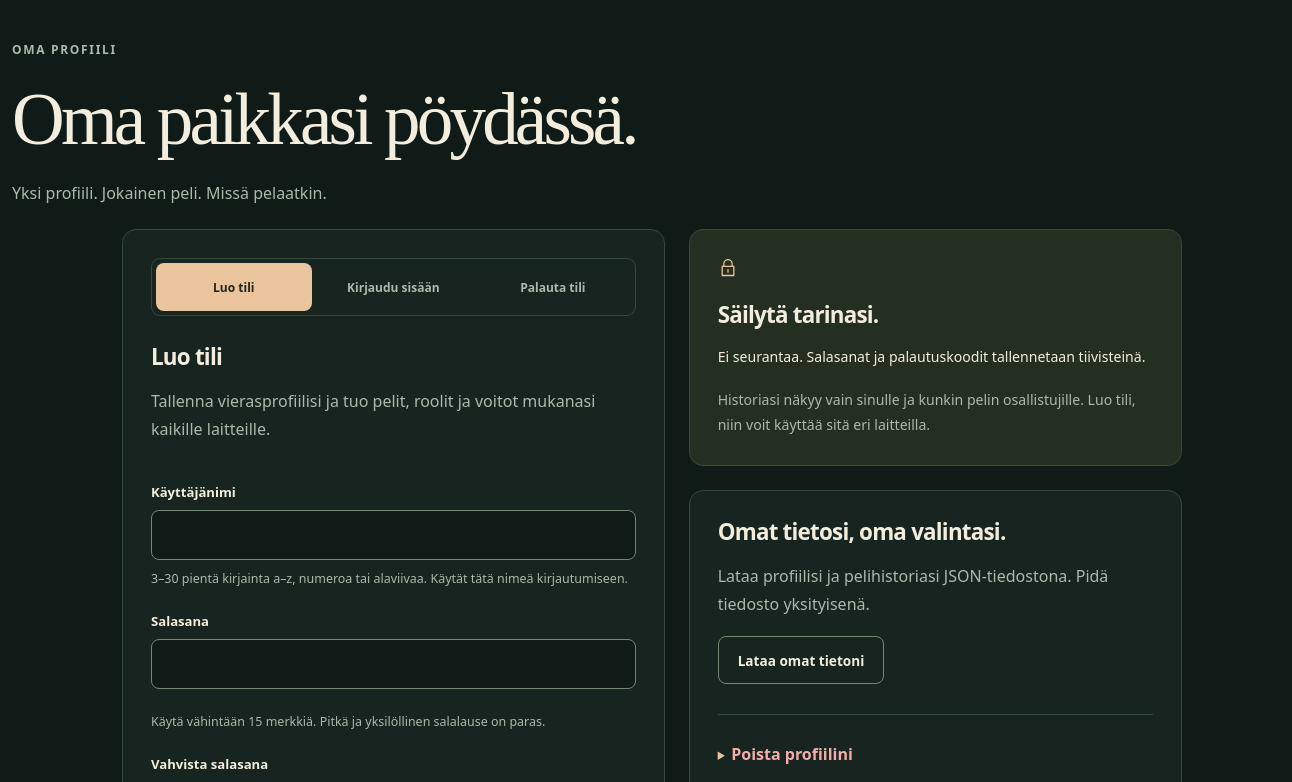
Test: reports authentication failures without losing the form or claiming success
The image size is (1292, 782).
Click the button "Kirjaudu sisään" at (393, 287), box [316,263,471,311]
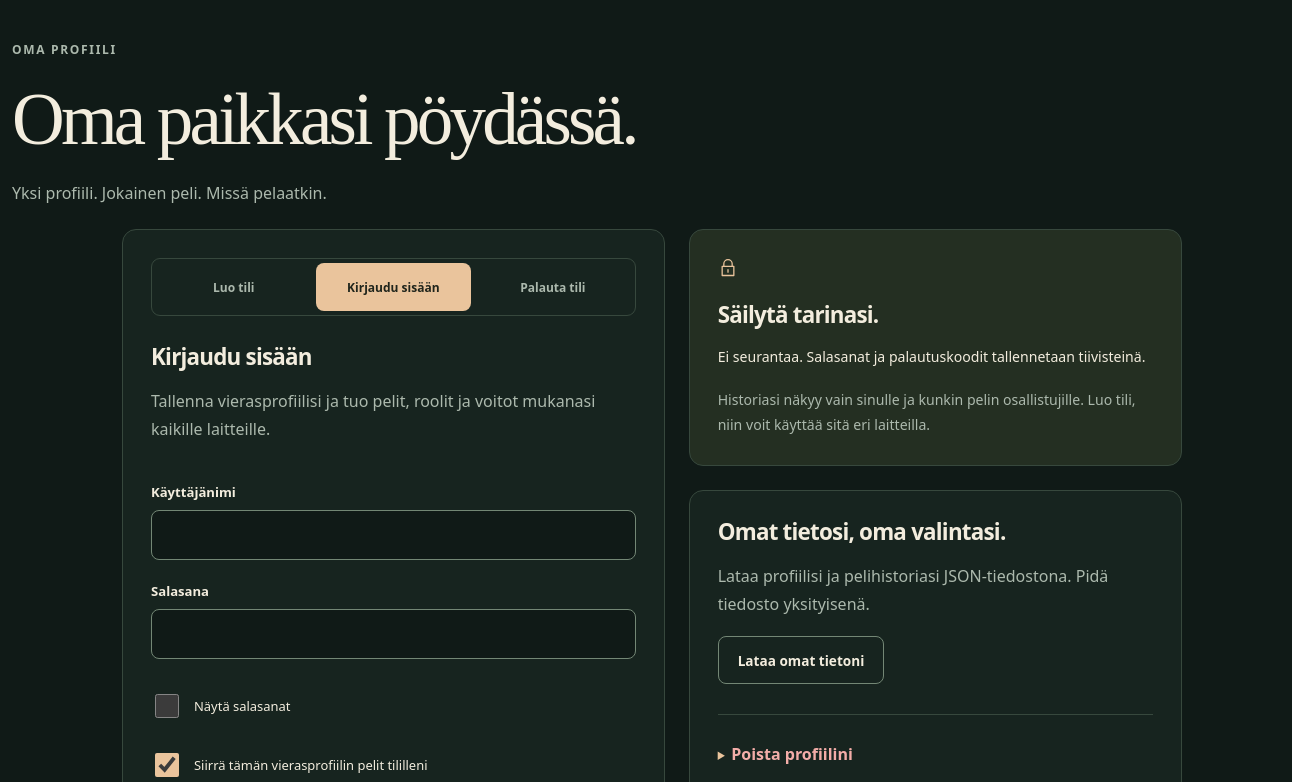
Type "aino" into the field labelled "Käyttäjänimi" at (393, 535), box [151,510,636,560]
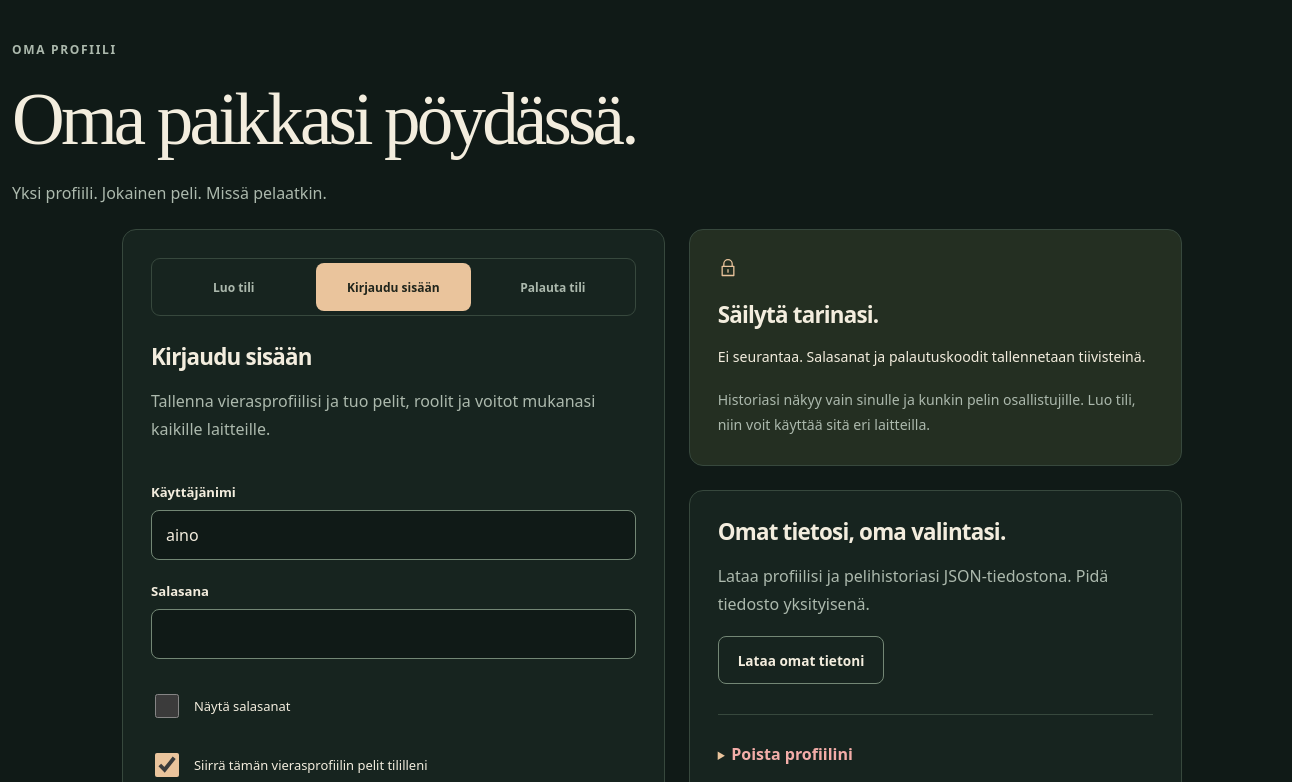
Type "wrong example password" into the password field labelled "Salasana" at (393, 634), box [151,609,636,659]
(page scrolled)
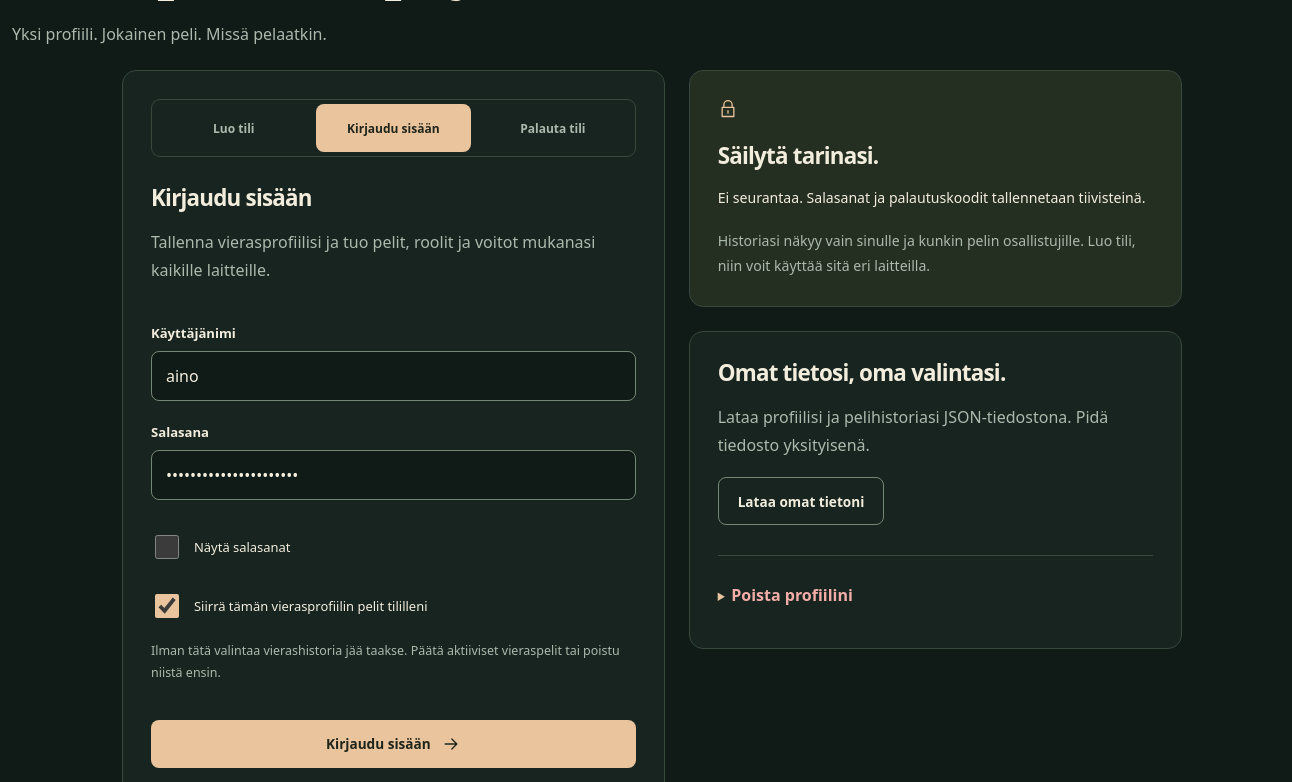
Submit the form labelled "Käyttäjänimi", box [151,302,636,768]
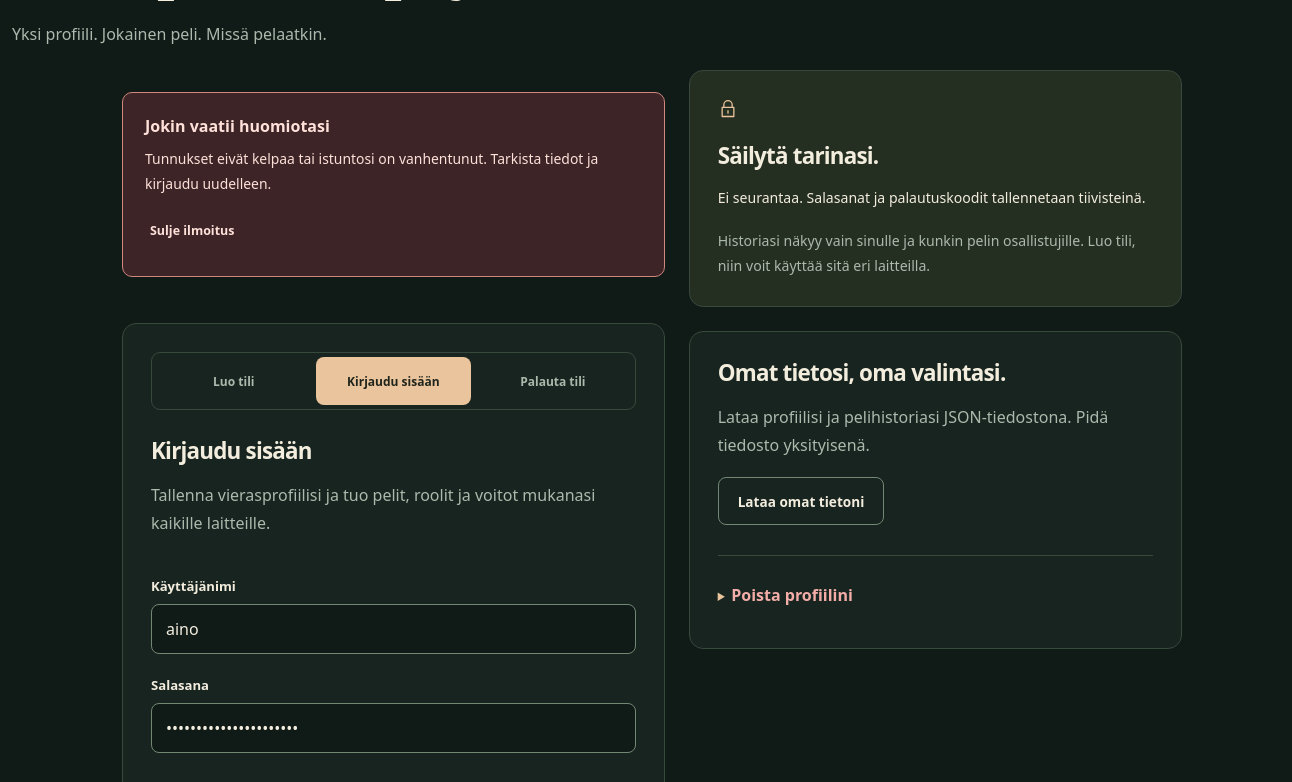
expect the message shows "Tunnukset eivät kelpaa tai istuntosi on vanhentunut. Tarkista tiedot ja kirjaudu uudelleen.": met, box [145,149,598,193]
